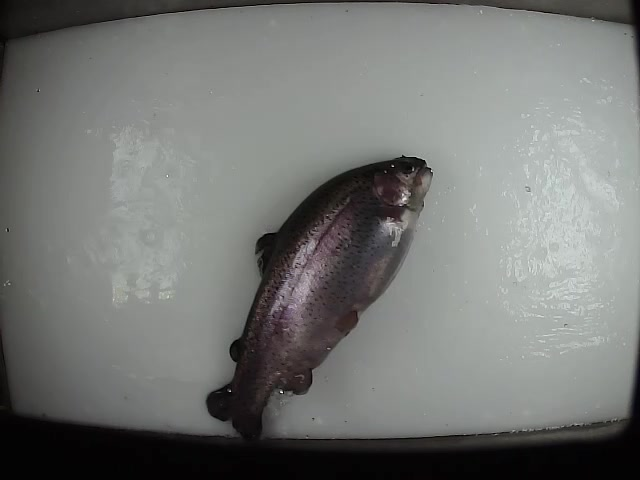fish: (203, 154, 435, 443)
